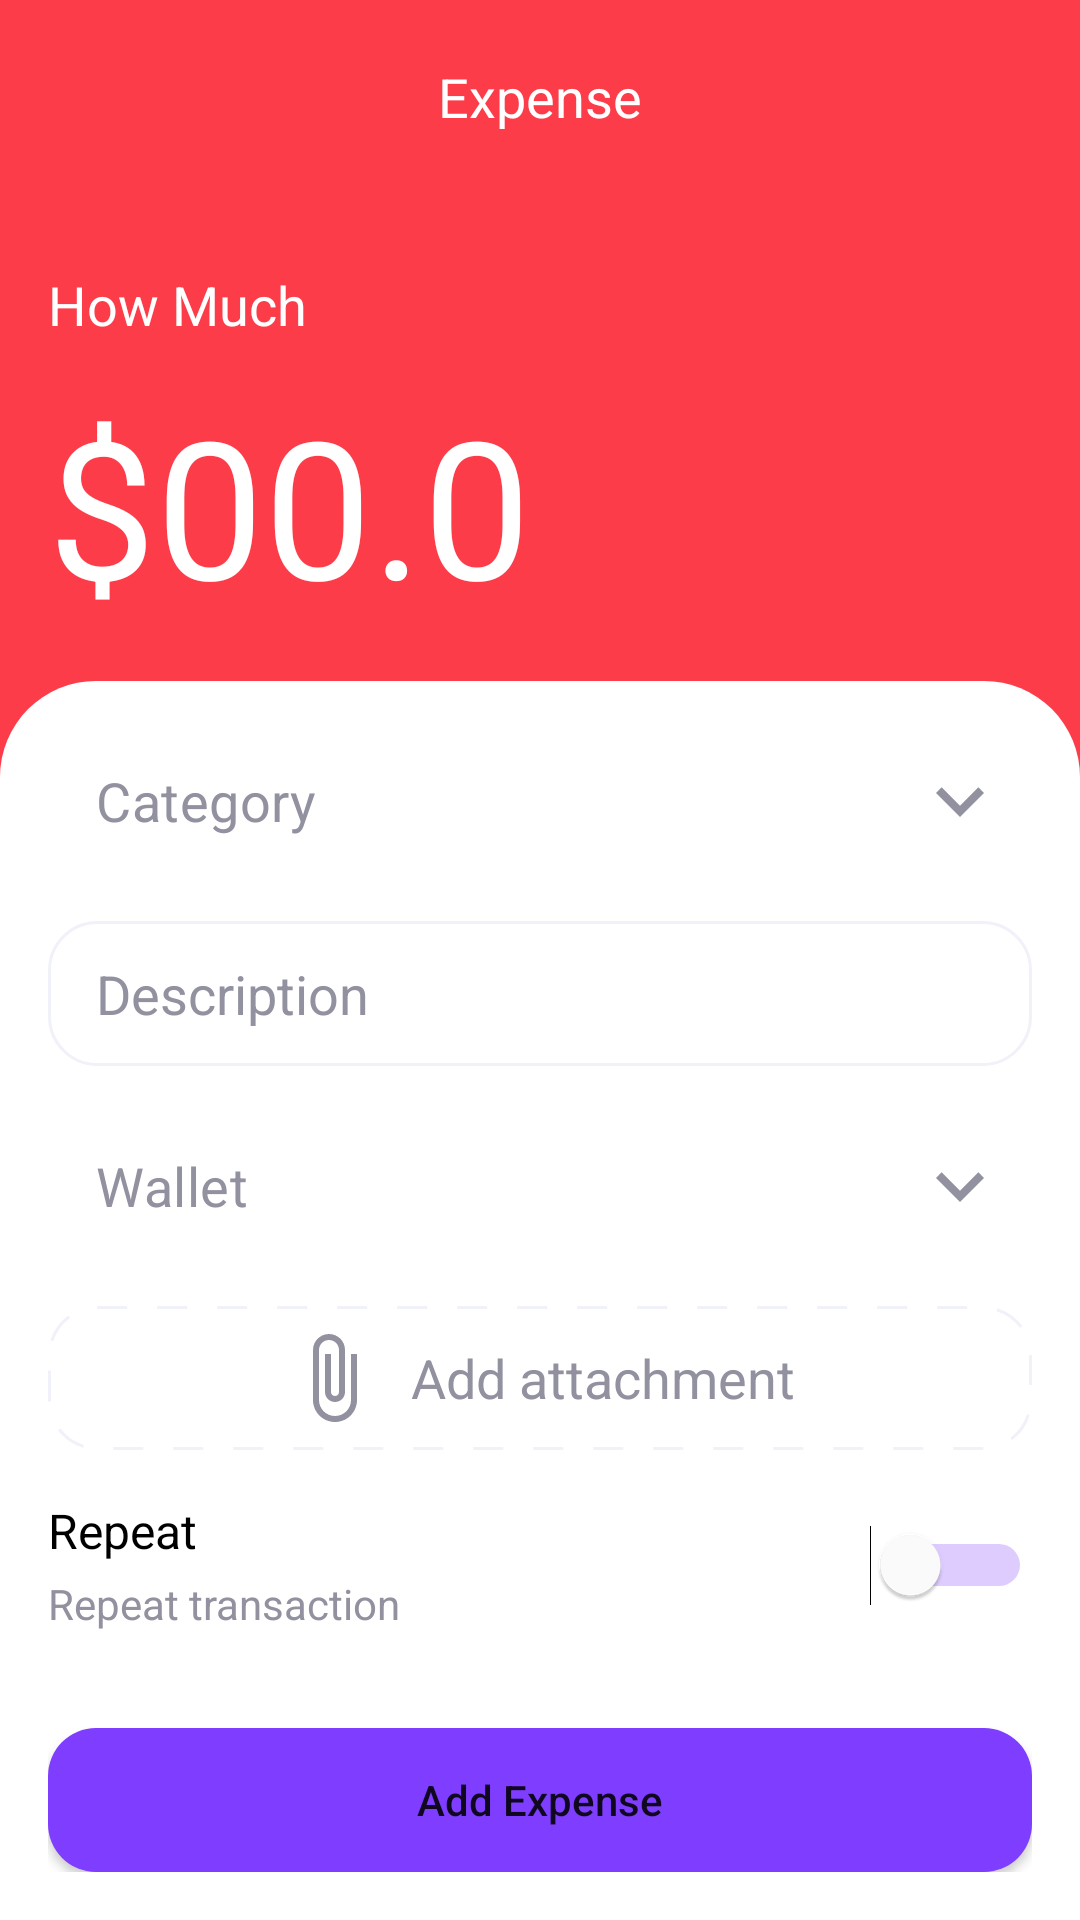

Screen size 1080 × 1920. Icon name, then its center in pixels as point (x, y):
attach file: point (335, 1378)
